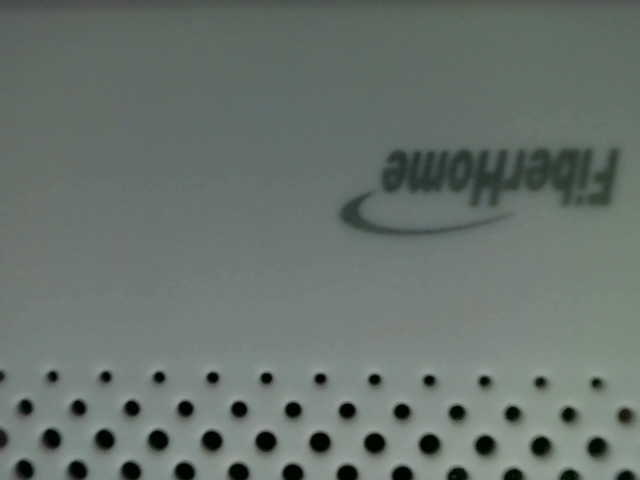AI_FiberHome: (325, 133, 626, 249)
